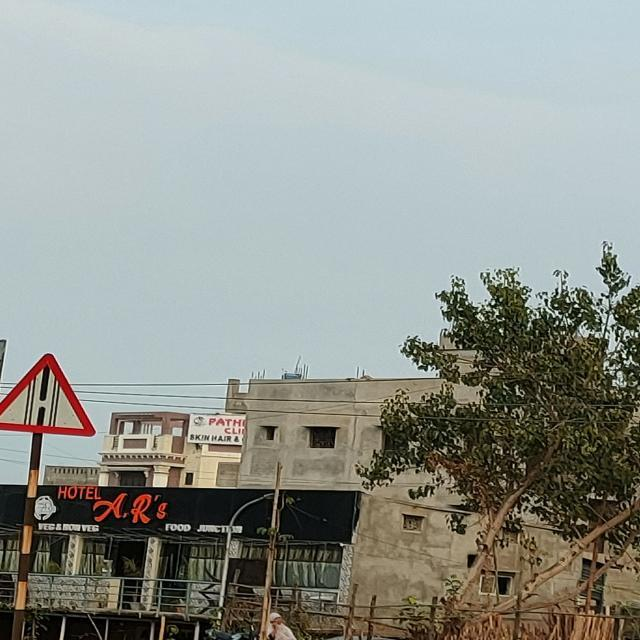gap in median: (6, 352, 93, 443)
